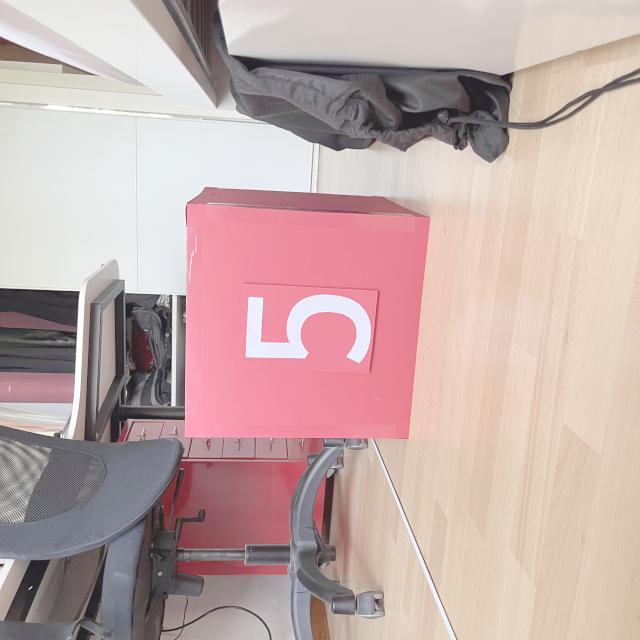box: (179, 181, 434, 442)
